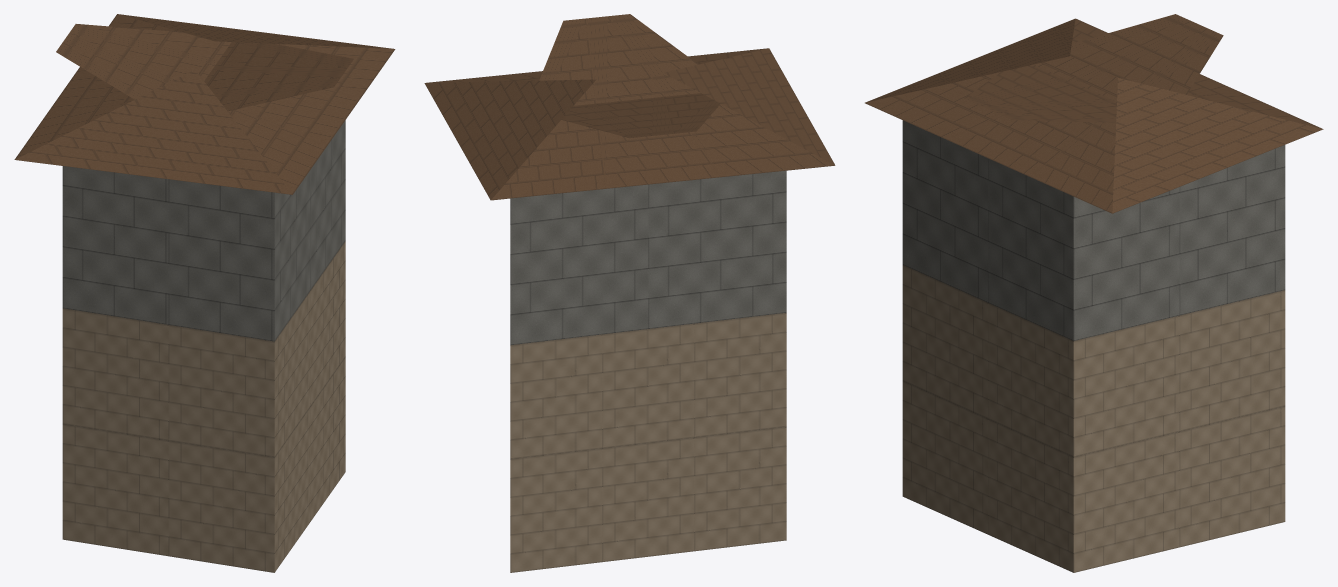
Rendered from bld_c-7_22_600.gltf.
3 views of the same model, side by side, from view 1: azimuth 30°, elevation 25°; view 2: azimuth 150°, elevation 25°; view 3: azimuth 270°, elevation 25° (orthographic).
Parts seen in each view (by area): view 1: bld_c-7_22_600; view 2: bld_c-7_22_600; view 3: bld_c-7_22_600.
Part boxes in pixels (bbox=[...]): bld_c-7_22_600: bbox=[14, 14, 395, 572]; bld_c-7_22_600: bbox=[424, 14, 835, 572]; bld_c-7_22_600: bbox=[865, 14, 1323, 572].
Size of the model in its own units: 8.53 by 9 by 8.48.
Materials: 3 (3 with a texture image).
